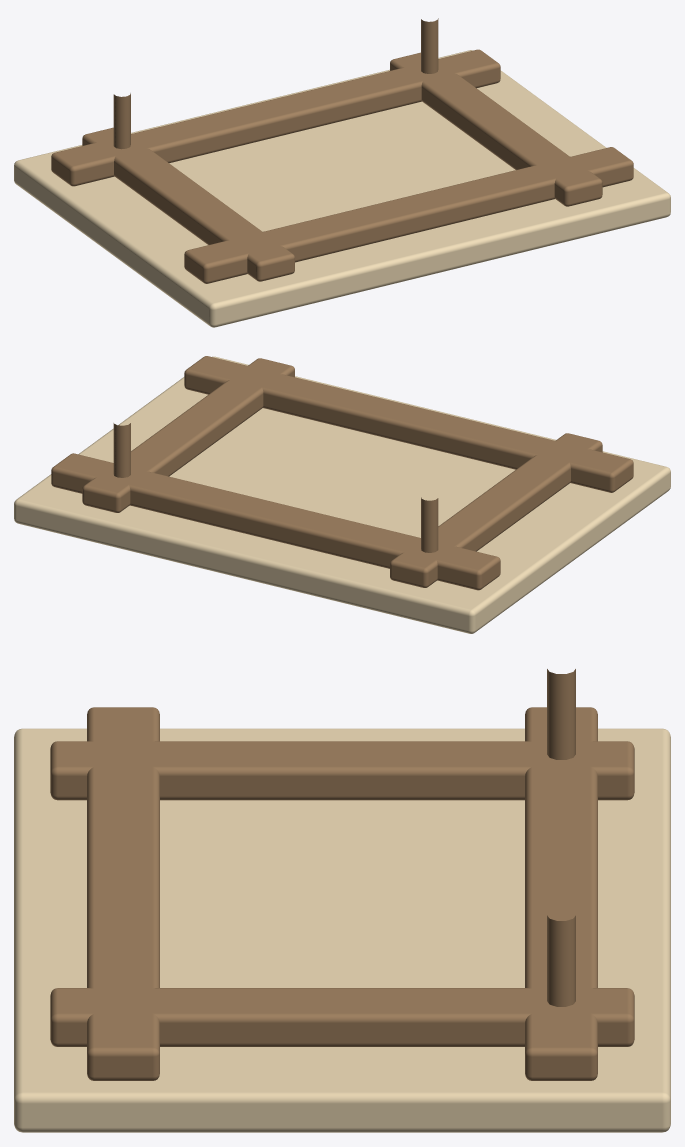
File: marquetry-and-veneer-inlay-workshop-removable-press-ca-5909c0d3__39117.glb
3 renders of one model, top to bottom at view 1: azimuth 30°, elevation 25°; view 2: azimuth 150°, elevation 25°; view 3: azimuth 270°, elevation 25°, orthographic. The views are drawn at different scales.
Visible parts, largest first — view 1: removable-press-caul-assembly; view 2: removable-press-caul-assembly; view 3: removable-press-caul-assembly.
Part boxes in pixels (left/top/right/bottom): removable-press-caul-assembly: left=14, top=18, right=670, bottom=327; removable-press-caul-assembly: left=14, top=356, right=670, bottom=633; removable-press-caul-assembly: left=14, top=669, right=670, bottom=1132.
Bounding box in the file's own units: 0.6 × 0.12 × 0.45.
